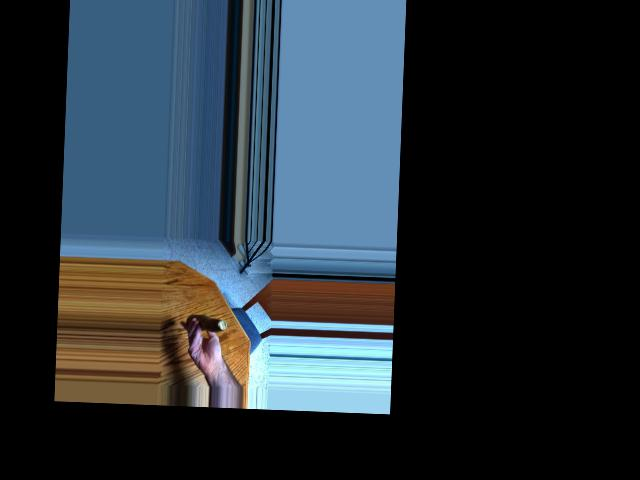sweet_potato: (188, 314, 220, 333)
